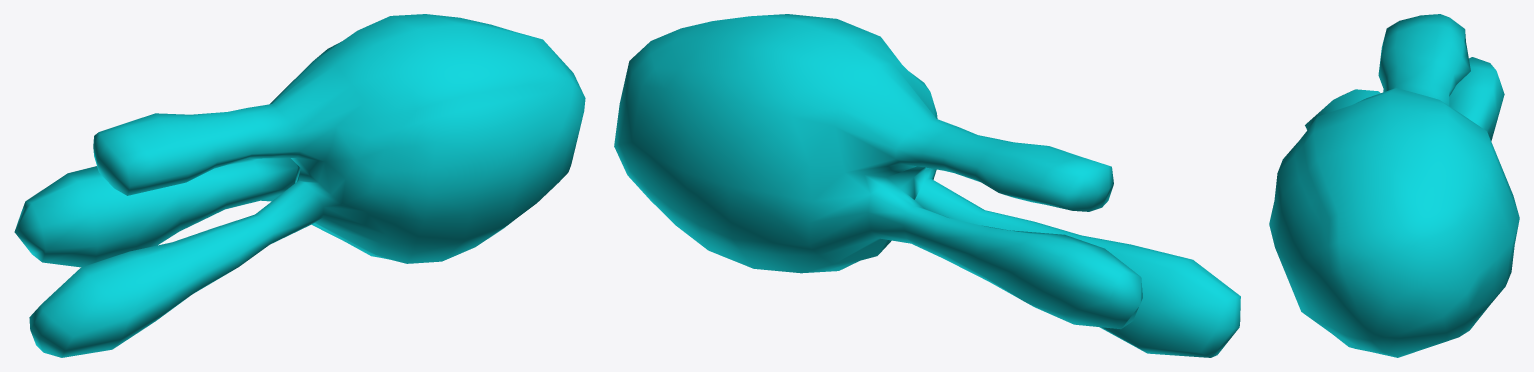
Rendered from ProyectilAgua.FBX.
The picture shows the model from 3 angles, left to right: view 1: azimuth 30°, elevation 25°; view 2: azimuth 150°, elevation 25°; view 3: azimuth 270°, elevation 25°; orthographic projection. The views are drawn at different scales.
Visible parts, largest first — view 1: Box001; view 2: Box001; view 3: Box001.
Boxes of the visible parts, x1,y1,x2,y2 form: Box001: (14, 14, 585, 357); Box001: (614, 14, 1240, 357); Box001: (1269, 14, 1519, 357).
Size of the model in its own units: 112 by 43.59 by 42.42.
